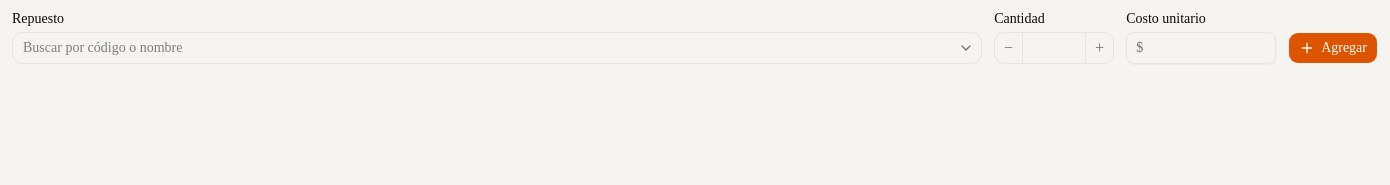
Test: AgregarEntradaItemForm › shows a low-quantity warning only while cantidad is 1 or 2
What coordinates should you click on to do the following:
click the dropdown labelled "Repuesto"
I would click on:
 (497, 48)
Its box is [12, 32, 982, 64].
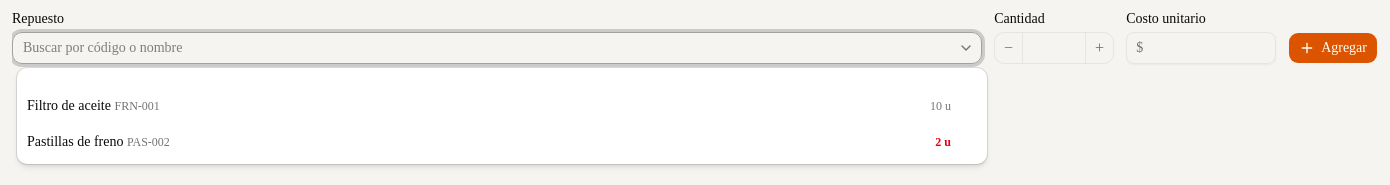
What coordinates should you click on to do the following:
click the option "Filtro de aceite FRN-001 10 u"
I would click on:
 (69, 106)
Its box is [27, 98, 951, 113].
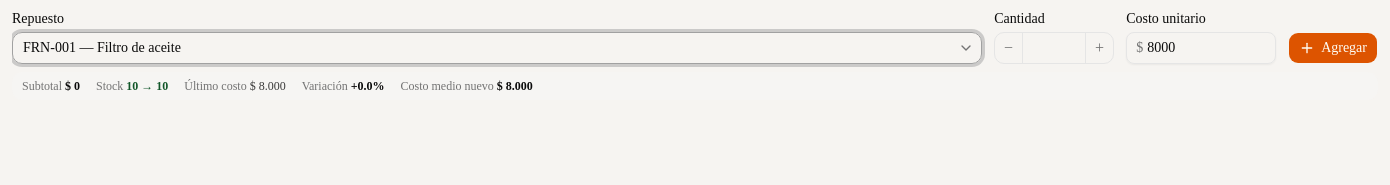
expect the text "Cantidad muy baja" is not shown: met
What coordinates should you click on to do the following:
click the button named "Aumentar cantidad"
I would click on:
 (1099, 48)
Its box is [1085, 33, 1113, 63].
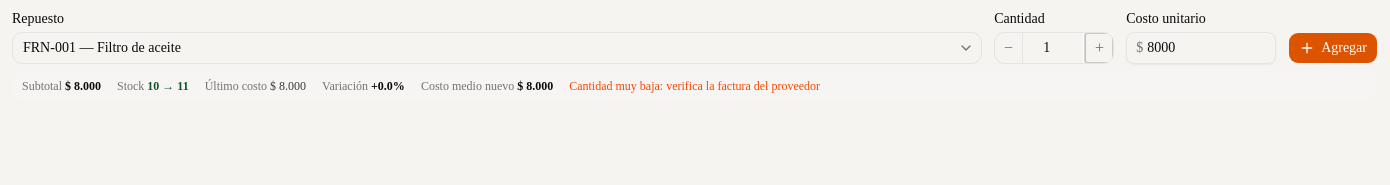
expect the text "Cantidad muy baja: verifica la factura del proveedor" is shown: met, box [569, 78, 820, 94]
What coordinates should you click on to do the following:
click the button named "Aumentar cantidad"
I would click on:
 (1099, 48)
Its box is [1085, 33, 1113, 63].
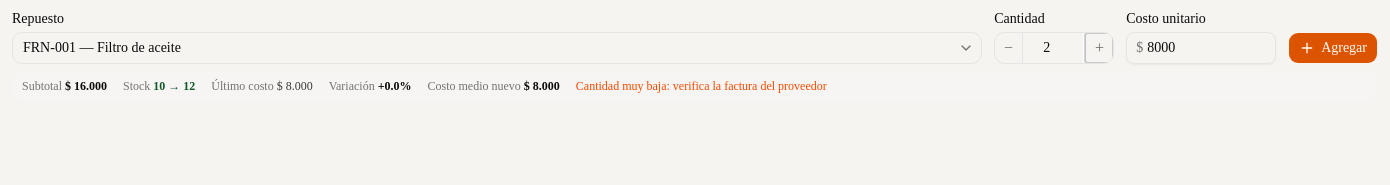
expect the text "Cantidad muy baja: verifica la factura del proveedor" is shown: met, box [576, 78, 827, 94]
What coordinates should you click on to do the following:
click the button named "Aumentar cantidad"
I would click on:
 (1099, 48)
Its box is [1085, 33, 1113, 63].
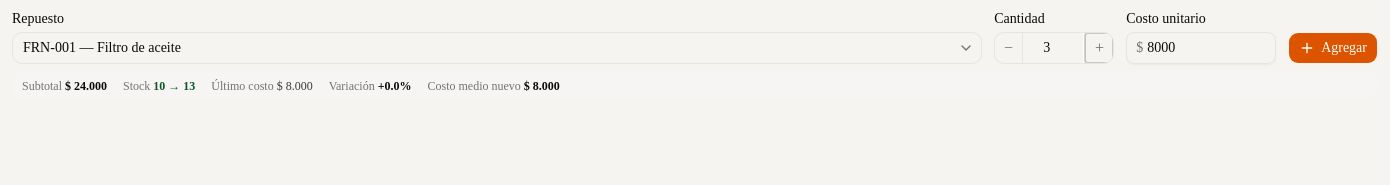
expect the text "Cantidad muy baja" is gone: met
